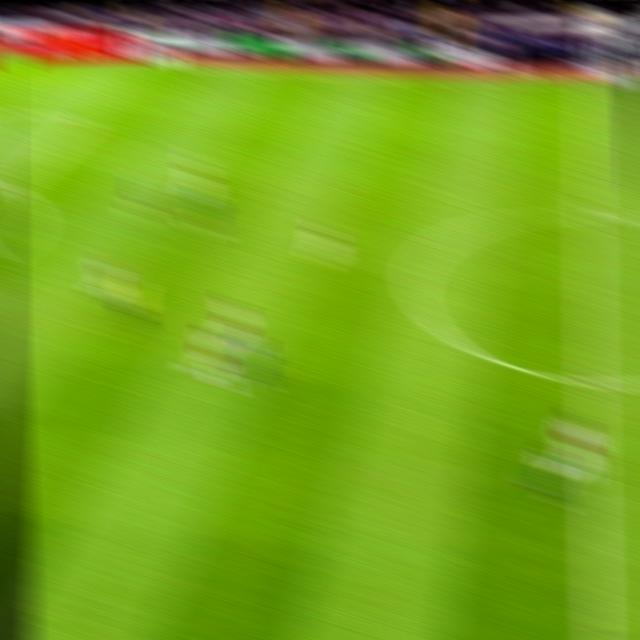bigarea_top_inner: (67, 102, 102, 135)
halfcircle_bottom: (568, 358, 611, 404)
halfcircle_top: (569, 198, 607, 235)
midline_top_intersection: (571, 71, 602, 97)
top_arc_area_intersection: (0, 171, 26, 196)
